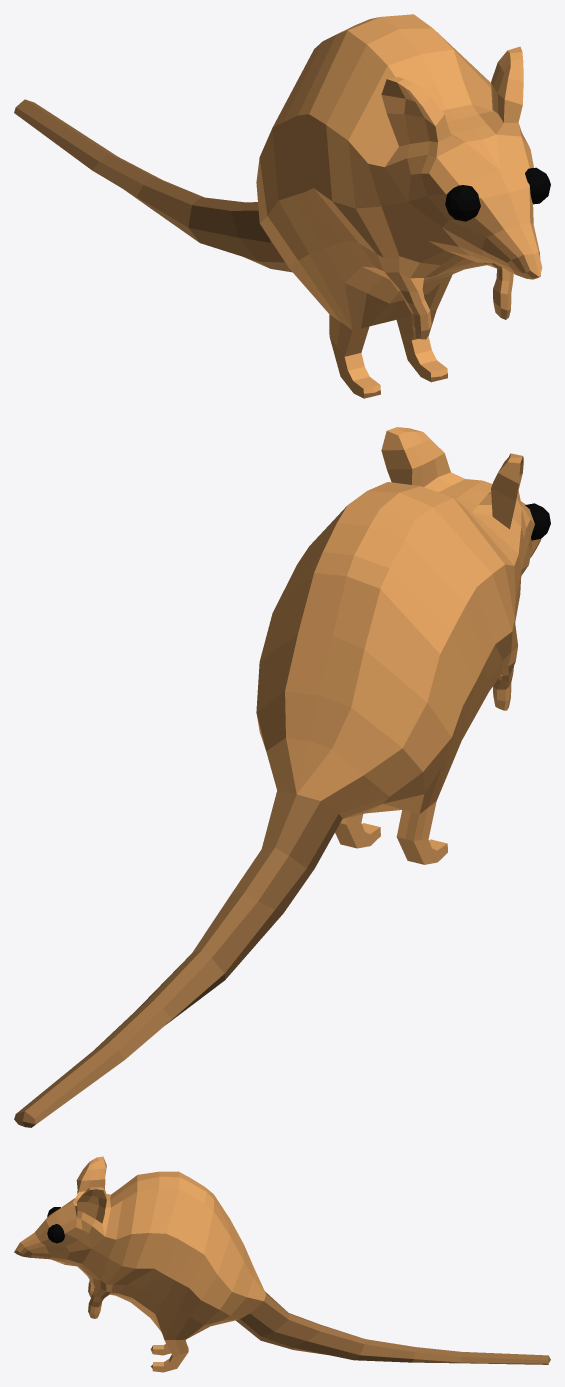
The model's file is Dunnart.glb.
3 renders of one model, top to bottom at view 1: azimuth 30°, elevation 25°; view 2: azimuth 150°, elevation 25°; view 3: azimuth 270°, elevation 25°, orthographic. The views are drawn at different scales.
Parts seen in each view (by area): view 1: M_body_, M_eyes; view 2: M_body_; view 3: M_body_, M_eyes.
Boxes of the visible parts, x1,y1,x2,y2 form: M_body_: (14,14,542,398); M_eyes: (445,167,550,221); M_body_: (14,427,541,1127); M_body_: (14,1156,550,1372); M_eyes: (47,1207,64,1243).
Size of the model in its own units: 2.26 by 4.29 by 10.96.
